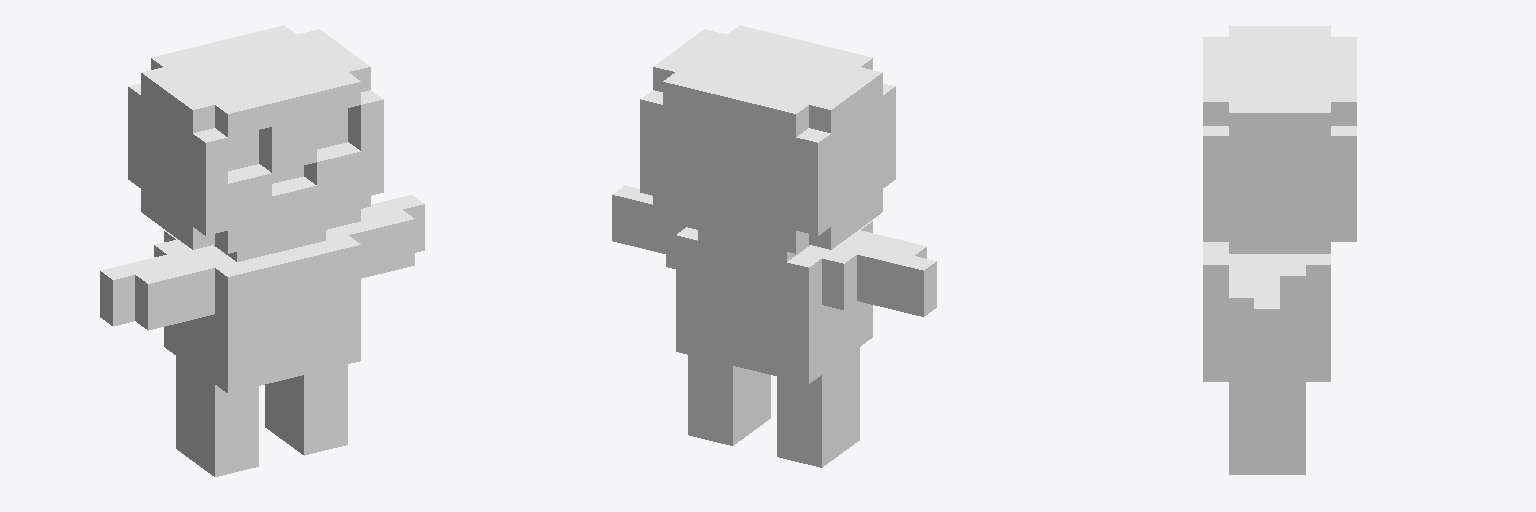
File: MainCharSkelly.obj
3 views of the same model, side by side, from view 1: azimuth 30°, elevation 25°; view 2: azimuth 150°, elevation 25°; view 3: azimuth 270°, elevation 25° (orthographic).
Size of the model in its own units: 14 by 16 by 6.